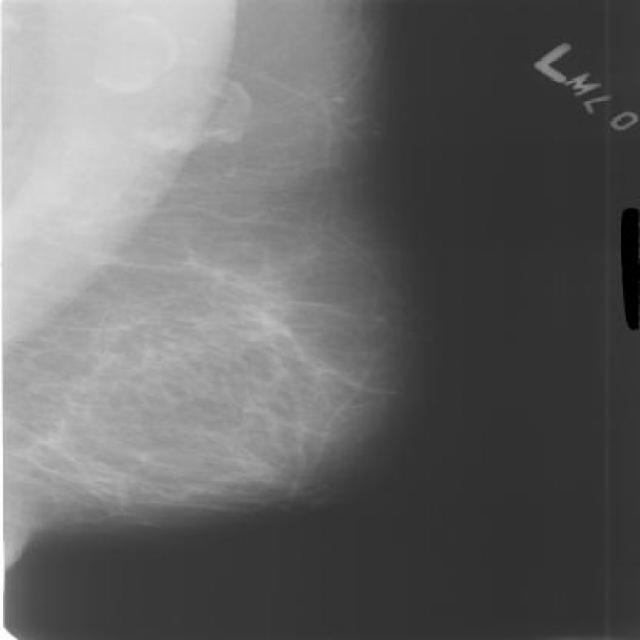tumor: (168, 249, 378, 389)
